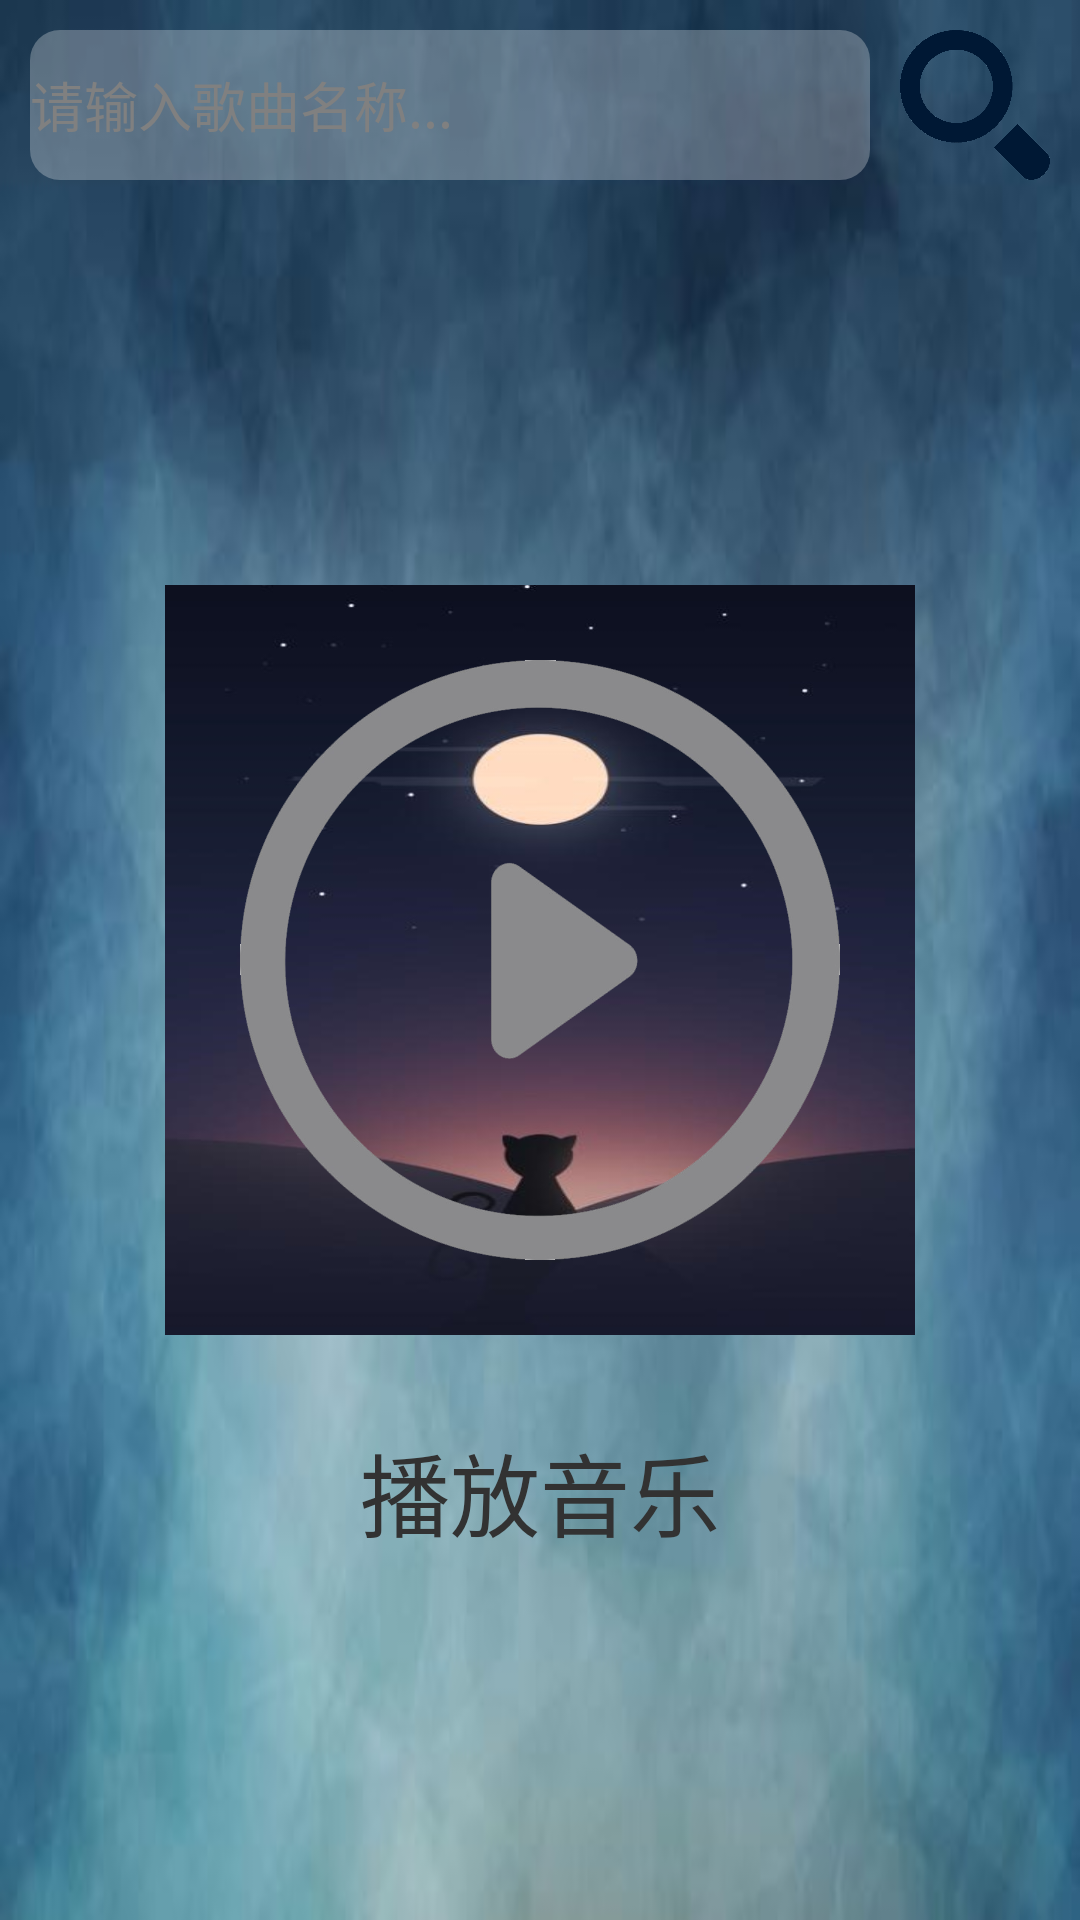

Screen size 1080 x 1920. Icon name, then its center in pixels as (x=x, y=y):
searching: (x=975, y=105)
